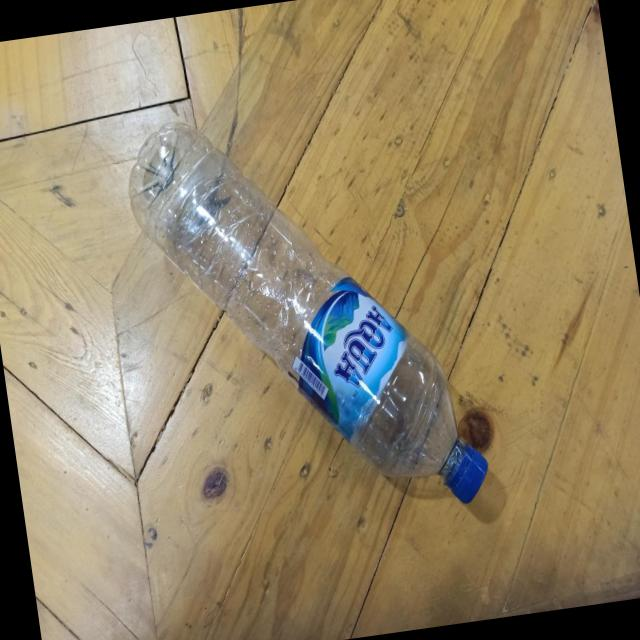BotolPlastik: (118, 83, 495, 545)
